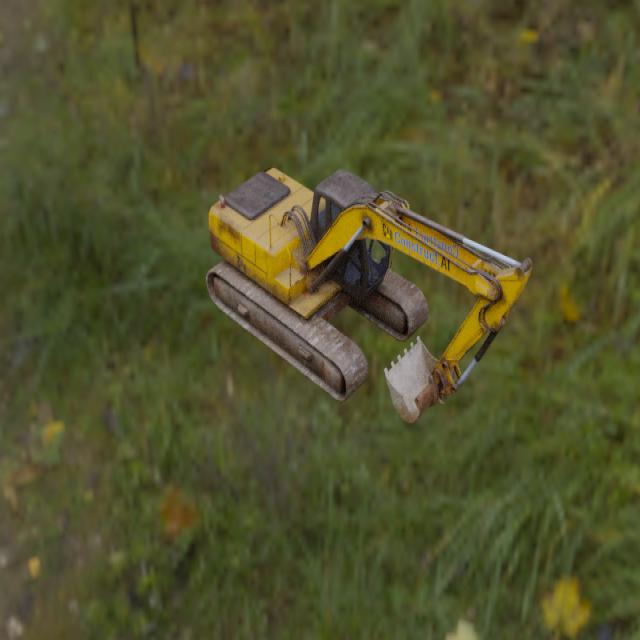excavator: (205, 166, 532, 422)
